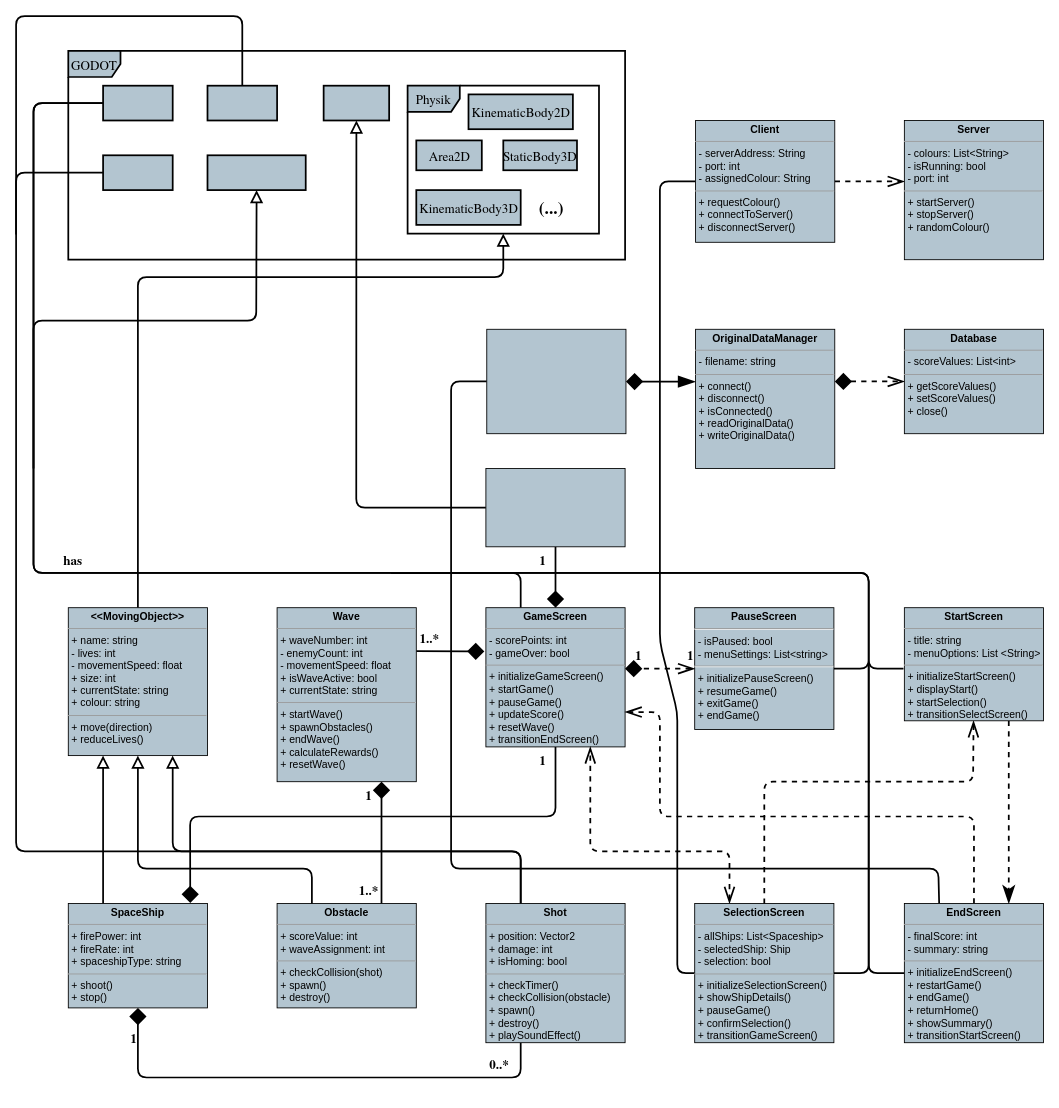
This 1059x1108 diagram has some shape labels left out. Each missing label, with the centre of its shape:
Animationplayer: point 256,172
Audio: point 137,172
Button: point 137,102
DataManagerGUI + saveResult() + getResult() + deleteResult() + updateResult(): point 556,381
Scene: point 356,102
Space - dimension: Vector2 - planets: List<Planets> + initializeGameScreen(): point 555,507
Timer: point 242,102
